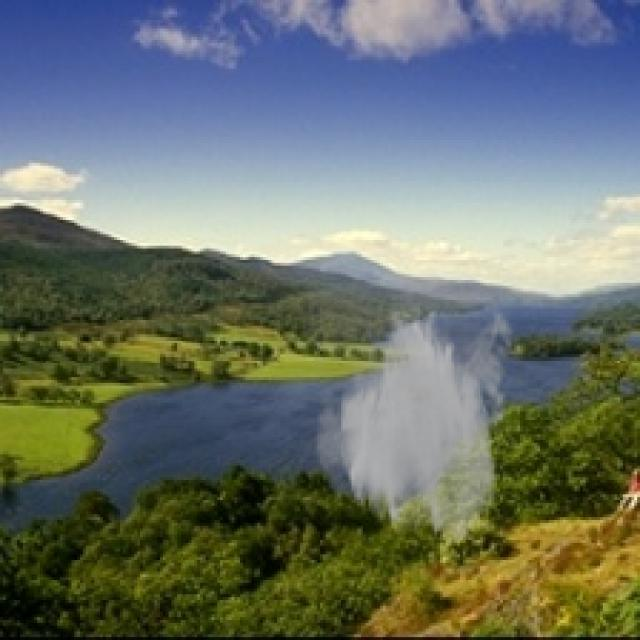smoke: (309, 283, 520, 548)
